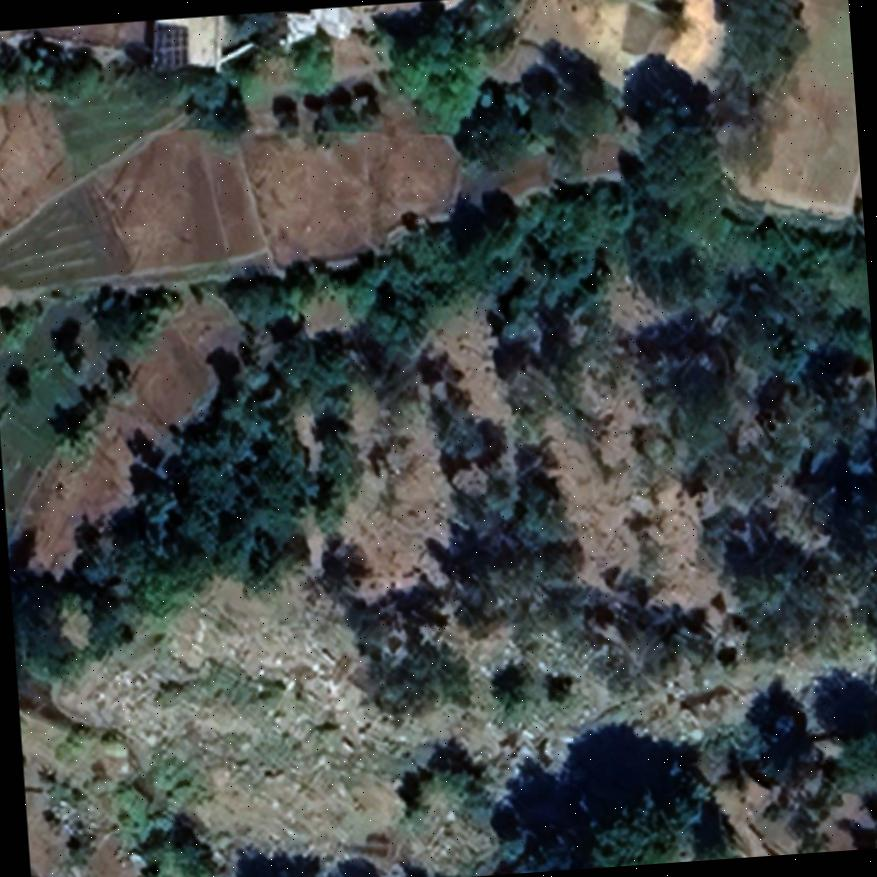Solarpanel: (150, 20, 190, 72)
